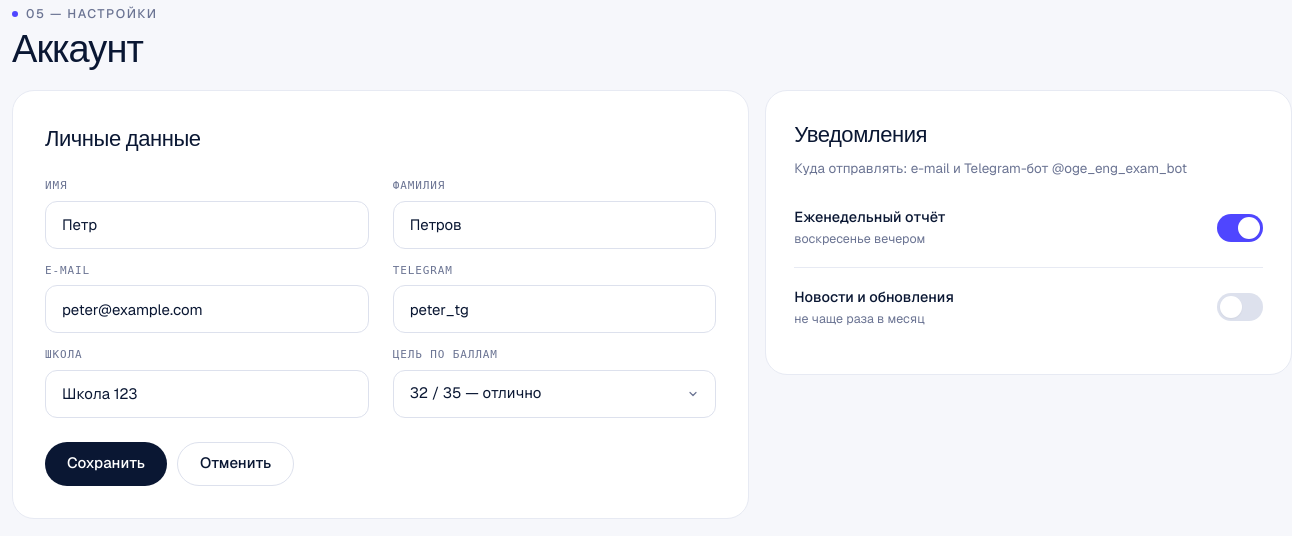
Profile Components Suite › SettingsSection › should handle form reset correctly
Replace the text in the field below "имя" with "Сергей" at [207, 224], box x1=45 y1=200 x2=369 y2=248
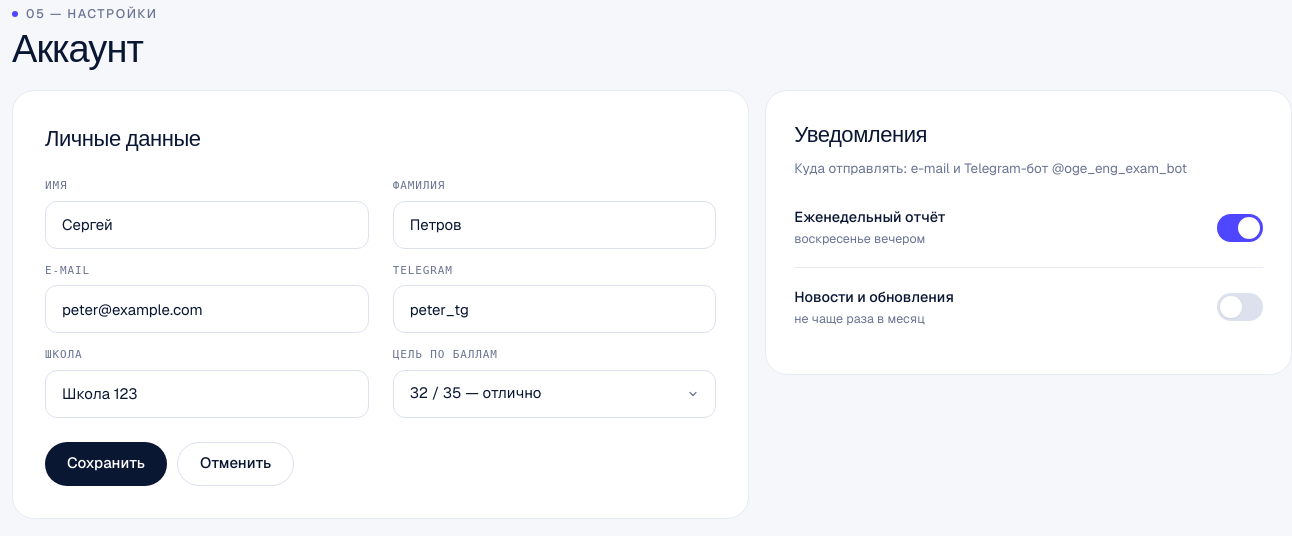
Click the button "Отменить" at [236, 464], box x1=177 y1=442 x2=294 y2=486
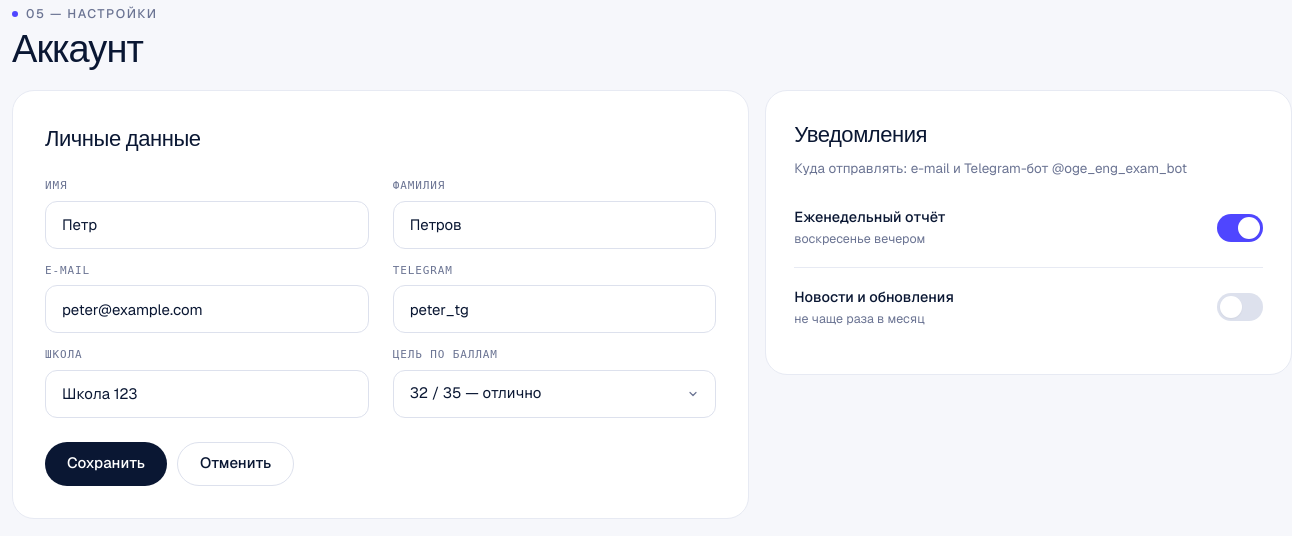
expect the field below "имя" holds "Петр": met, box x1=45 y1=200 x2=369 y2=248
